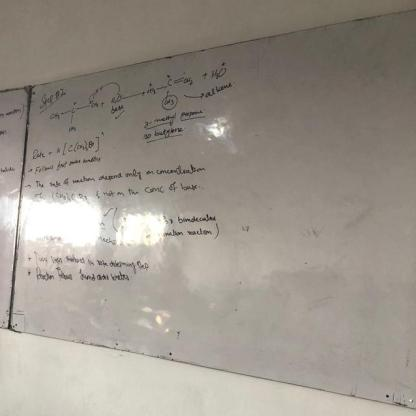Handwritten text: (31, 160, 211, 189), (26, 248, 153, 277), (30, 266, 136, 291), (30, 148, 111, 176)
Whiteboard: (8, 8, 416, 412)
